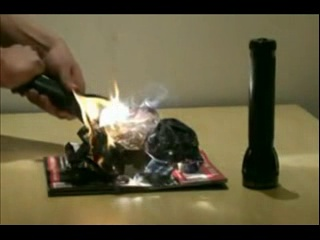fire: (72, 81, 117, 167)
smoke: (116, 87, 169, 149)
